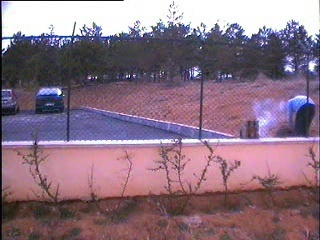smoke: (251, 95, 290, 138)
